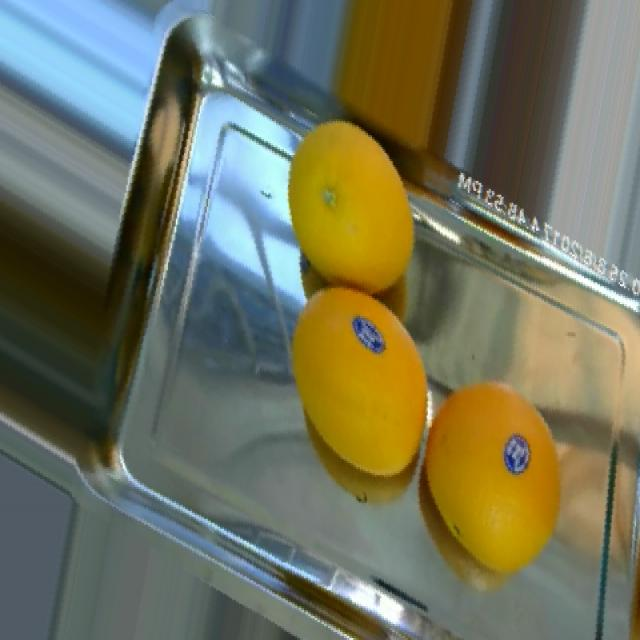Fruit: (398, 433, 570, 608), (290, 97, 418, 318)
